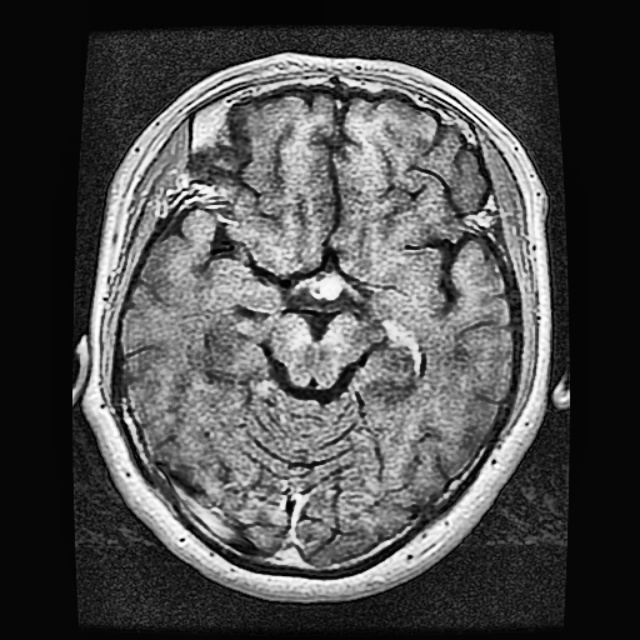Pituitary: (309, 275, 344, 300)
